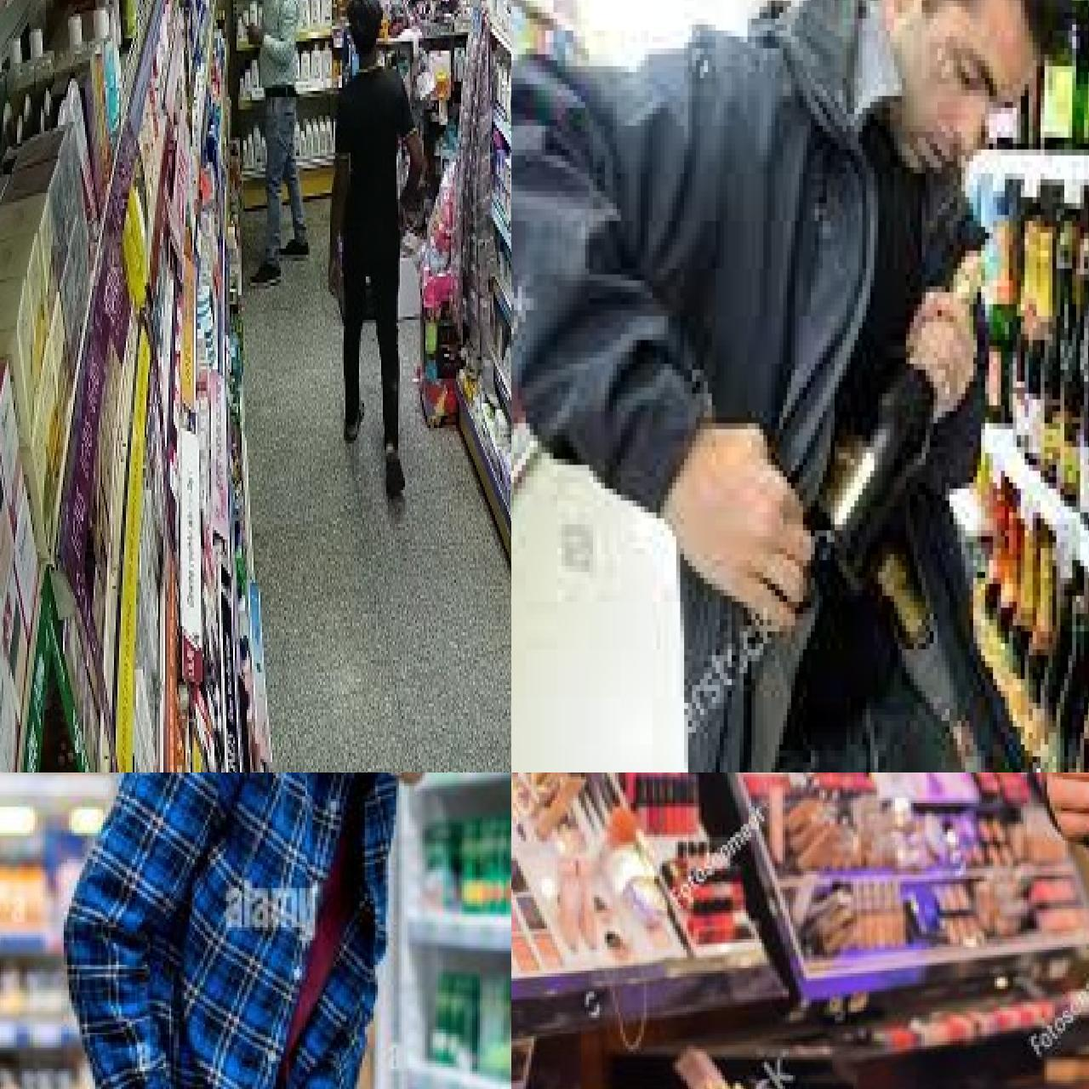shoplifting: (513, 0, 1088, 771)
